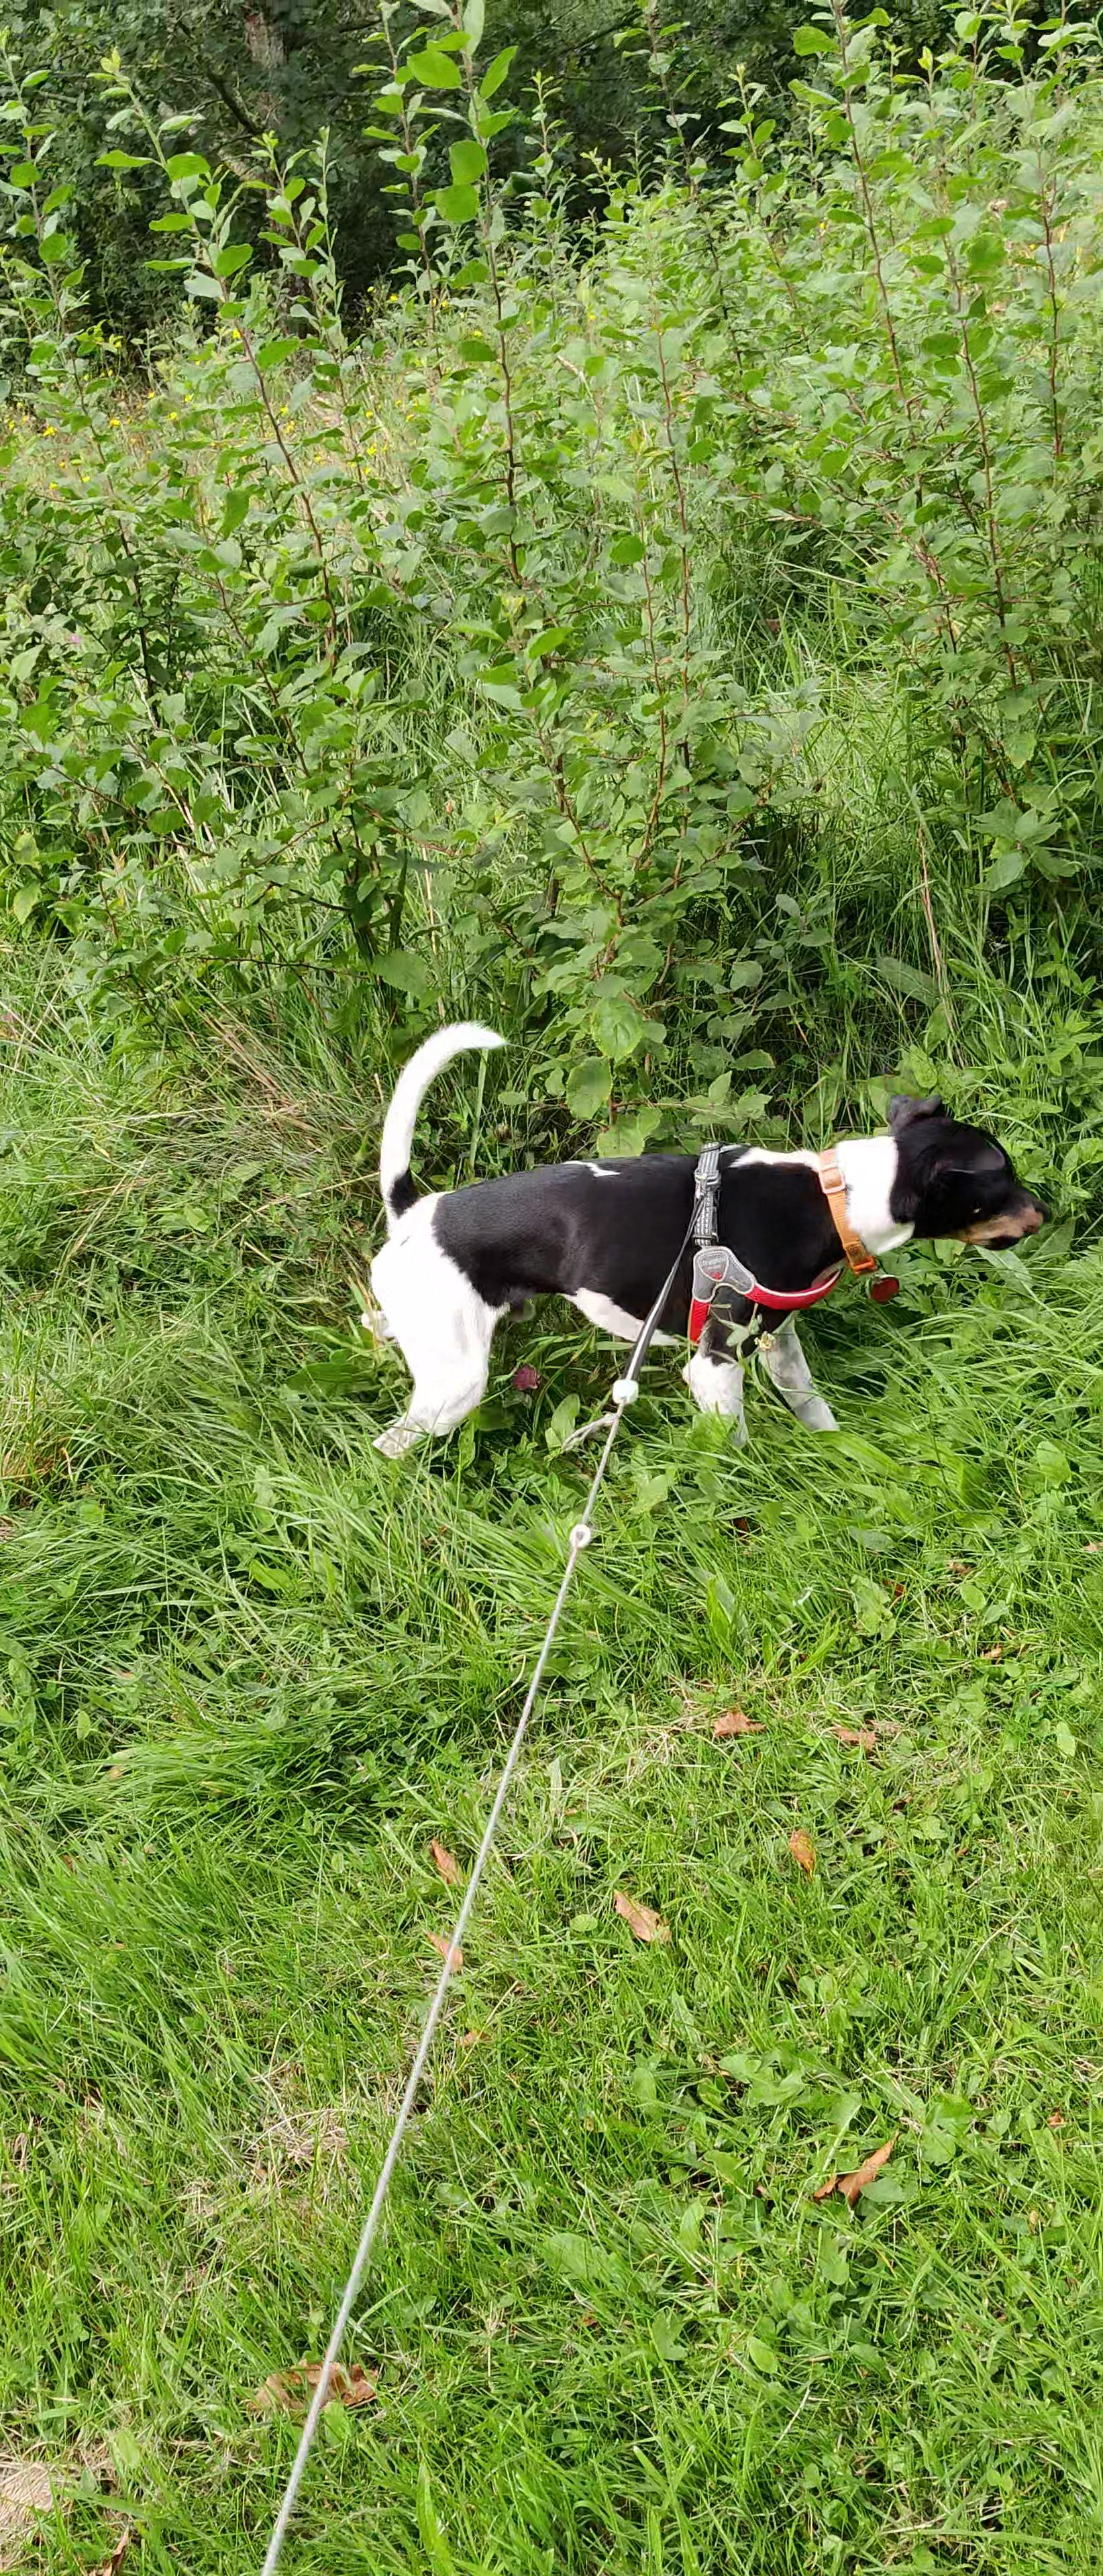Dog: (325, 1002, 1064, 1470)
